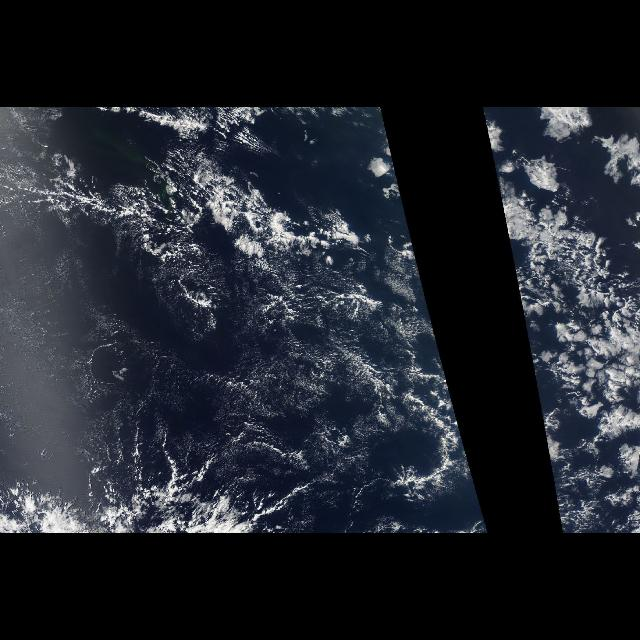Flower: (494, 142, 636, 492)
Gravel: (7, 162, 467, 478)
Sugar: (225, 270, 341, 450)
